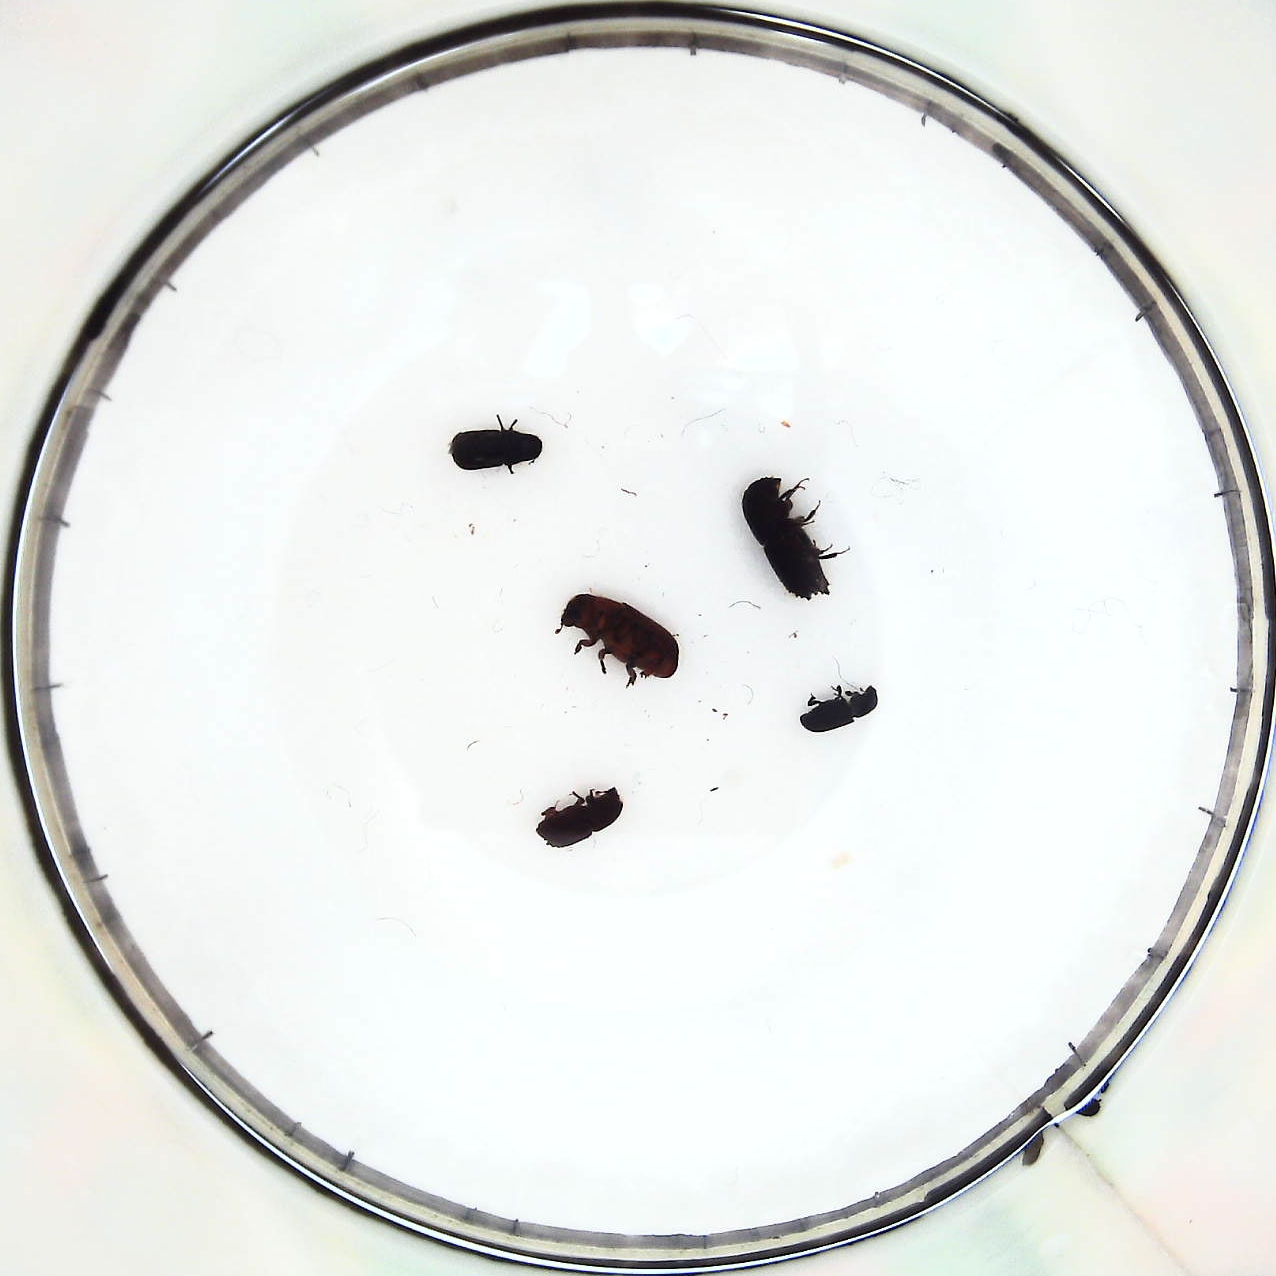Boerner: (741, 476, 841, 601)
Leconte: (559, 592, 678, 687)
Linnaeus: (536, 786, 620, 848)
armandi: (448, 423, 541, 472)
coleoptera: (797, 687, 882, 738)
